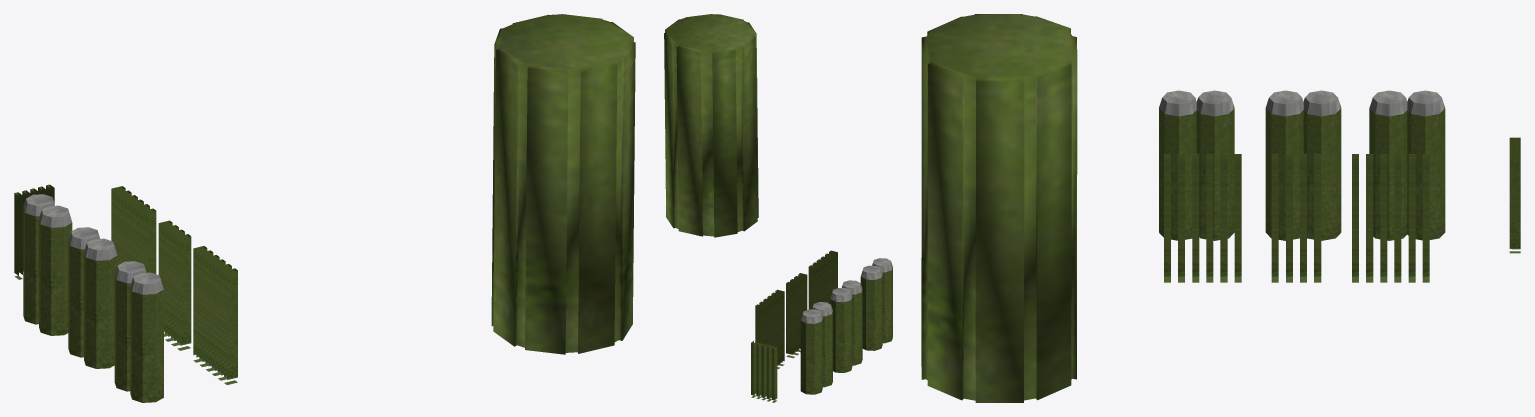
Rendered from reactor_l.dae.
3 views of the same model, side by side, from view 1: azimuth 30°, elevation 25°; view 2: azimuth 150°, elevation 25°; view 3: azimuth 270°, elevation 25° (orthographic). The views are drawn at different scales.
Parts seen in each view (by area): view 1: reactor_l; view 2: reactor_l; view 3: reactor_l.
Boxes of the visible parts, bbox=[...] form: reactor_l: bbox=[14, 14, 635, 402]; reactor_l: bbox=[664, 14, 892, 402]; reactor_l: bbox=[921, 14, 1520, 402].
Bounding box in the file's own units: 9.8 × 10.68 × 7.49.
